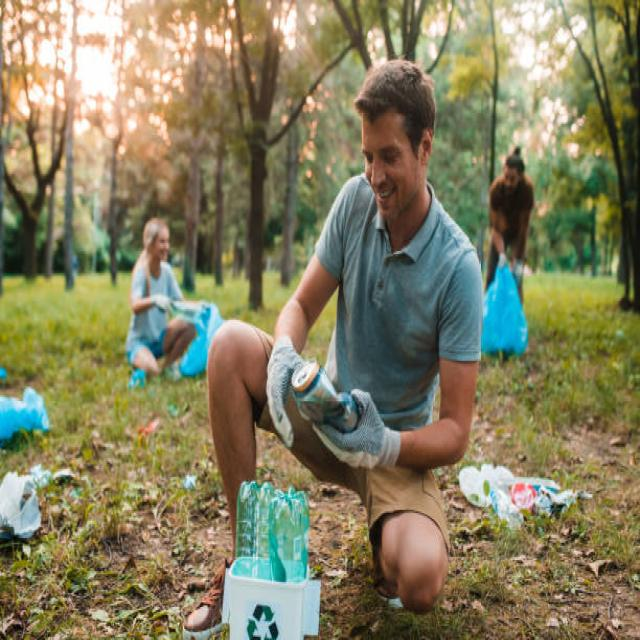plastic: (234, 476, 324, 580)
trash: (474, 457, 569, 522), (154, 292, 234, 359), (486, 258, 536, 358), (2, 384, 51, 454), (1, 461, 38, 544)
